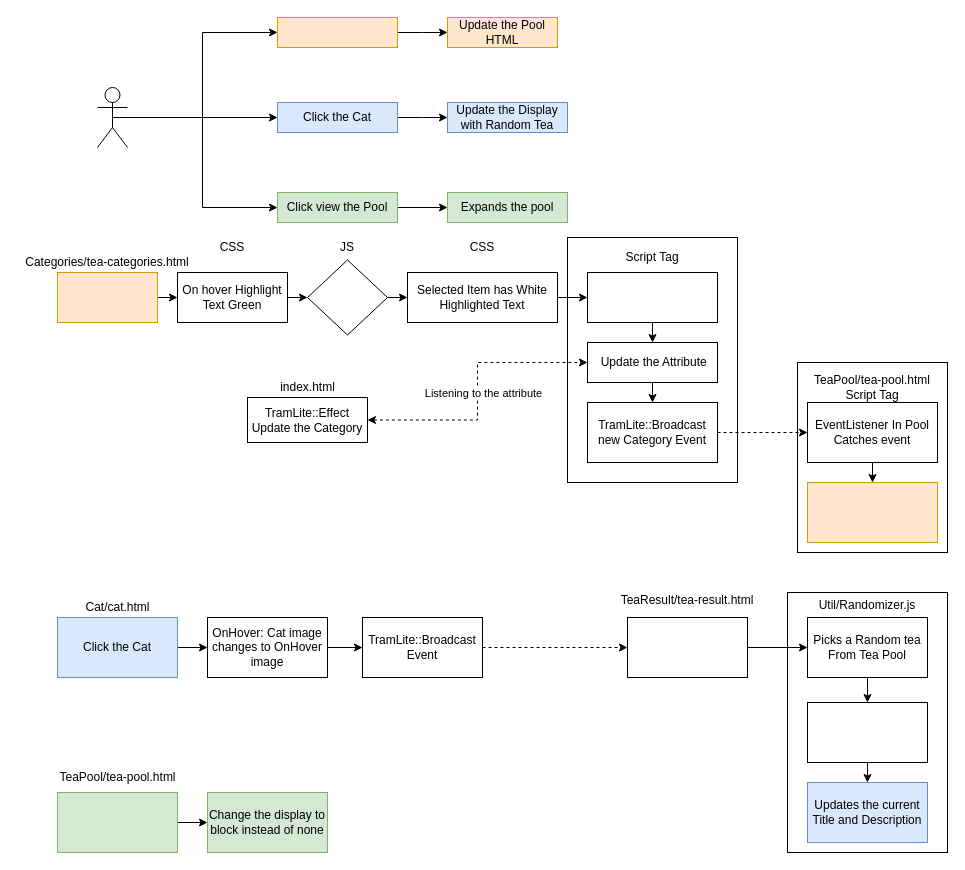
Image size: 965x870. Some labels were removed from this diagram. The shapes that lost their labels are listed below. From the top down, each one's centre as x and y in pixels, then its label:
point (337, 32): Select a Category
point (112, 117): Actor
point (107, 297): Selects a Category
point (347, 297): OnSelect::Radio Button
point (652, 297): Update the Selected Category in JS.
point (872, 512): Updates Pool HTML
point (687, 647): Event Handler catches Event
point (867, 732): Logs the Picked Tea Index and Title
point (117, 822): Click the Pool Button
